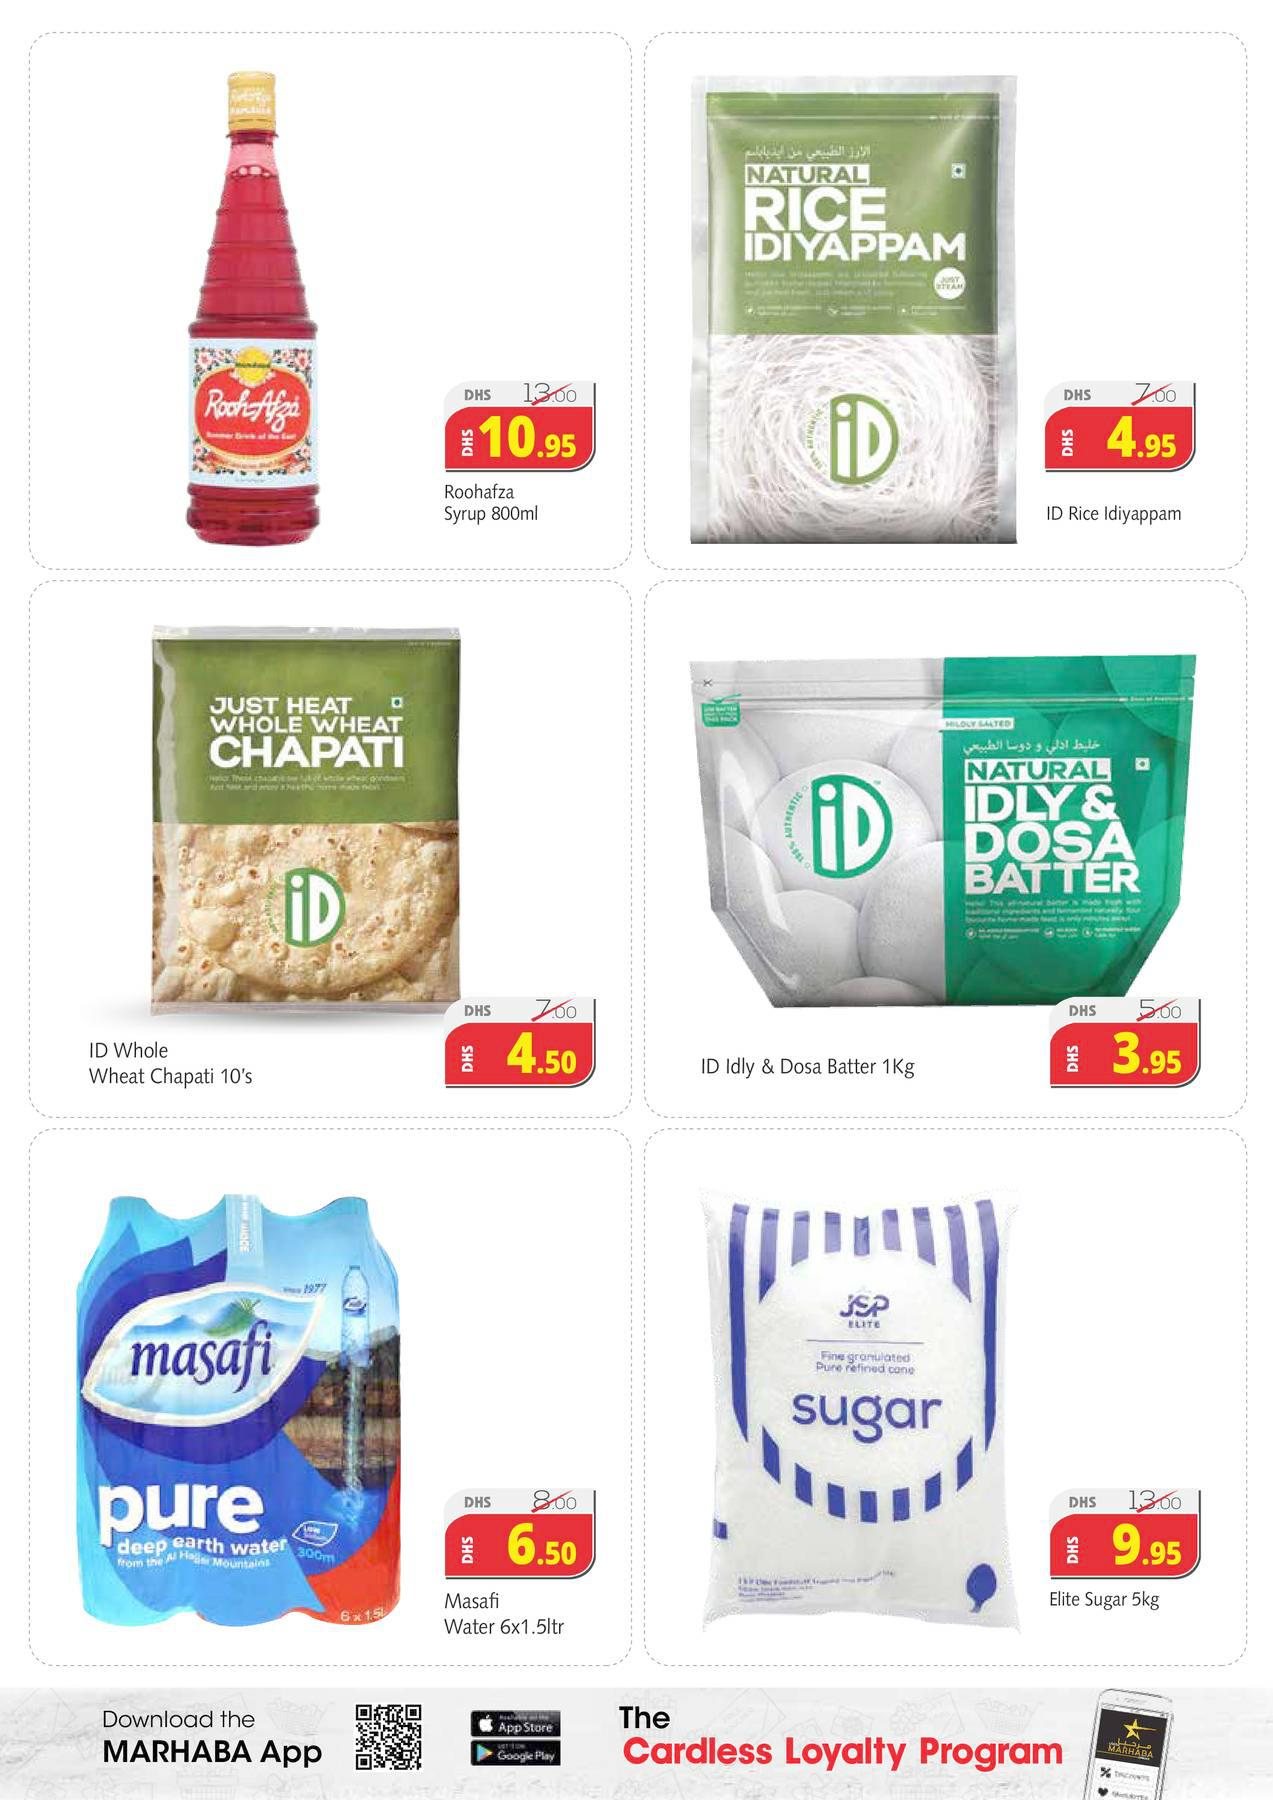text: (693, 1045, 927, 1093), (84, 1033, 258, 1098), (439, 1585, 576, 1647), (439, 481, 555, 532), (1042, 499, 1190, 534), (1044, 1585, 1168, 1617)
